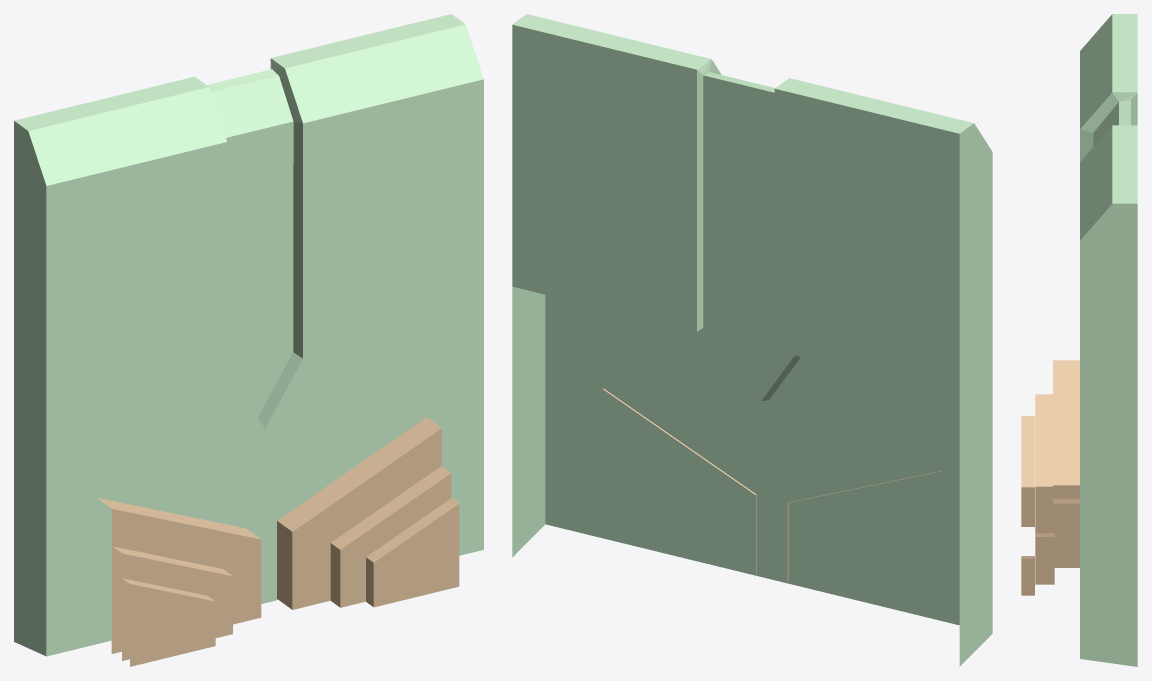
The picture shows the model from 3 angles, left to right: view 1: azimuth 30°, elevation 25°; view 2: azimuth 150°, elevation 25°; view 3: azimuth 270°, elevation 25°; orthographic projection. The views are drawn at different scales.
Parts seen in each view (by area): view 1: Object27; view 2: Object27; view 3: Object27.
Boxes of the visible parts, box(x1,y1,x2,y2) form: Object27: box(14, 14, 483, 666); Object27: box(512, 14, 992, 666); Object27: box(1021, 14, 1137, 666).
Size of the model in its own units: 215 by 245 by 55.7.
